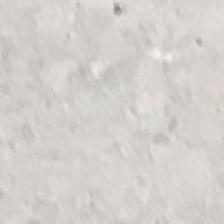Non_Crack: (1, 8, 222, 218)
